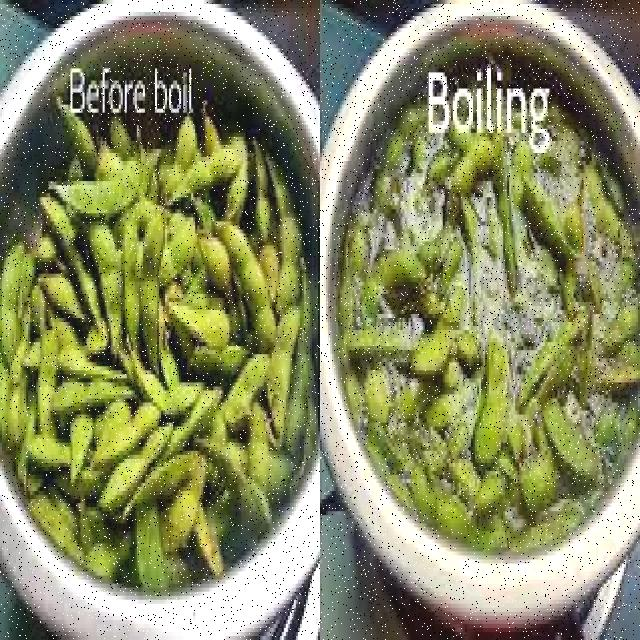Green Soybean: (19, 160, 291, 535), (338, 200, 452, 329), (534, 315, 600, 501), (502, 160, 586, 282), (130, 280, 243, 358), (53, 169, 168, 241), (468, 325, 508, 477)
